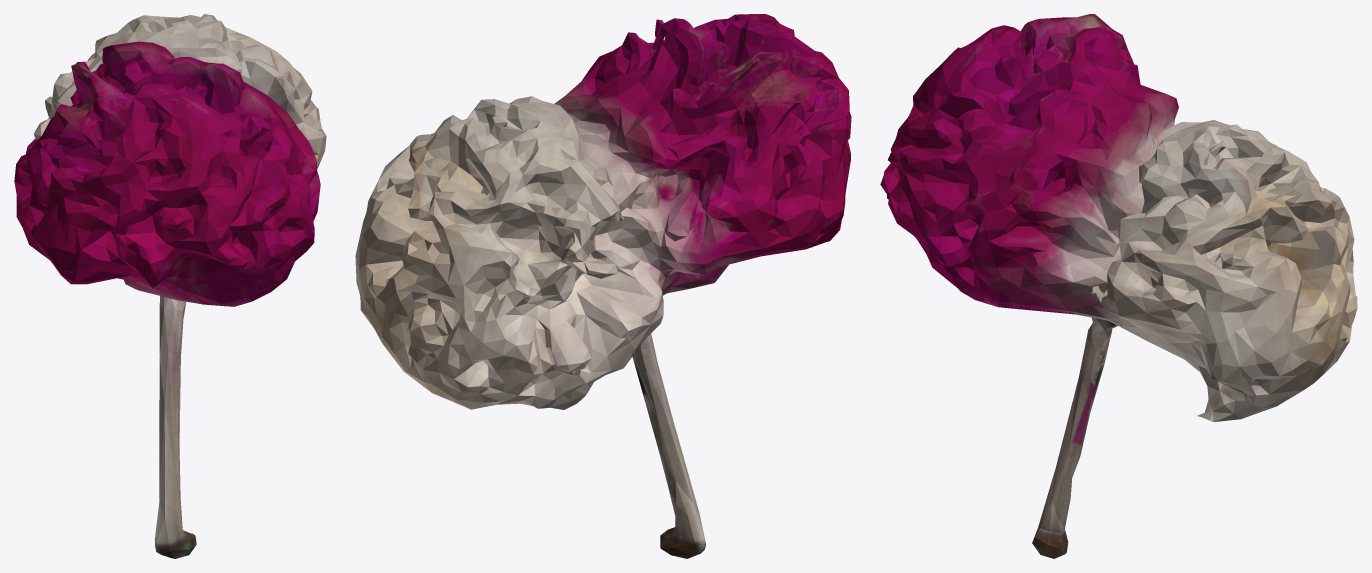
File: ACC55BCB-8DDE-F742-817D-7717B2E7A5CD_2k.glb
The picture shows the model from 3 angles, left to right: view 1: azimuth 30°, elevation 25°; view 2: azimuth 150°, elevation 25°; view 3: azimuth 270°, elevation 25°; orthographic projection. The views are drawn at different scales.
Visible parts, largest first — view 1: Pfingstrosen Mutmacher_5k_2k; view 2: Pfingstrosen Mutmacher_5k_2k; view 3: Pfingstrosen Mutmacher_5k_2k.
Boxes of the visible parts, box(x1,y1,x2,y2) form: Pfingstrosen Mutmacher_5k_2k: box(14, 14, 326, 558); Pfingstrosen Mutmacher_5k_2k: box(355, 14, 851, 558); Pfingstrosen Mutmacher_5k_2k: box(880, 14, 1357, 558).
Bounding box in the file's own units: 0.0748 × 0.1033 × 0.087.
Materials: 1 (1 with a texture image).
